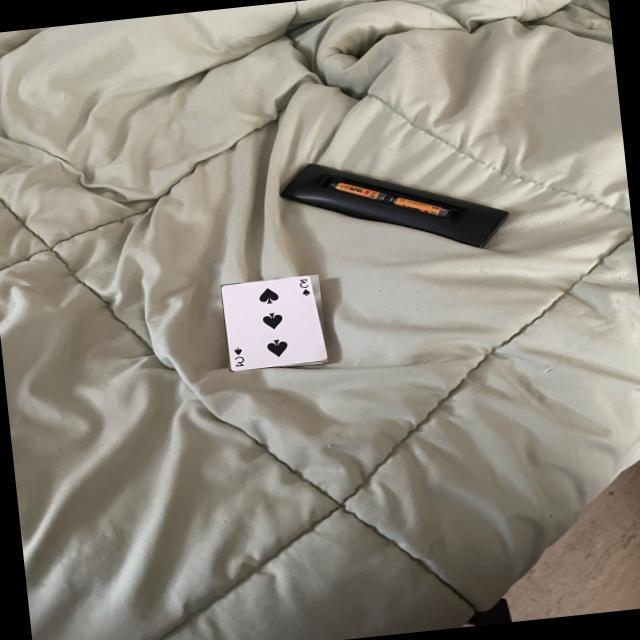3 of spades: (221, 275, 327, 372)
